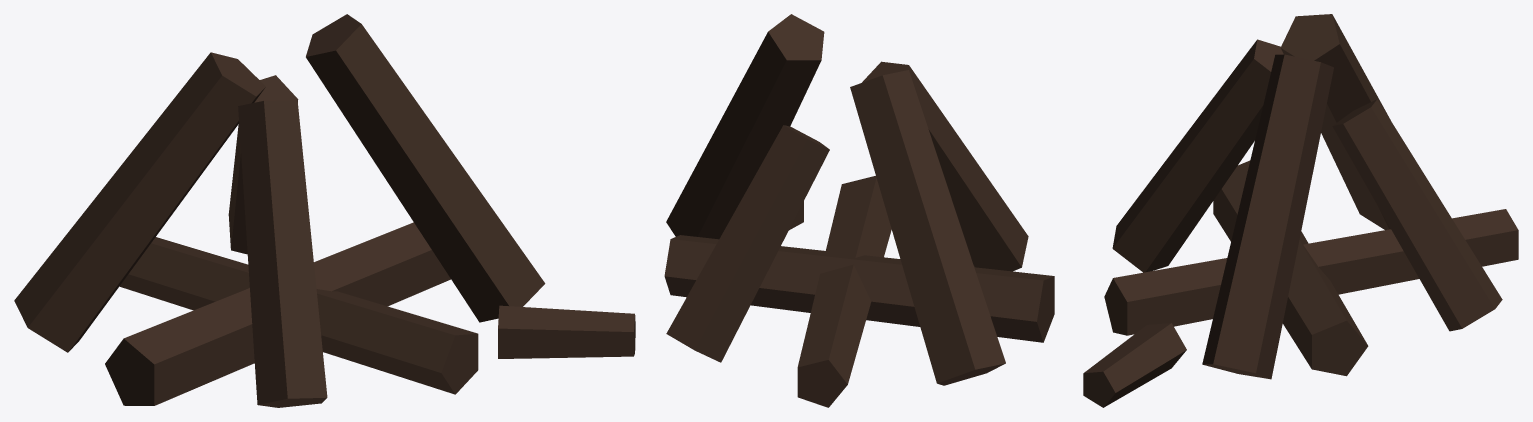
Rendered from fire_logs.fbx.
3 views of the same model, side by side, from view 1: azimuth 30°, elevation 25°; view 2: azimuth 150°, elevation 25°; view 3: azimuth 270°, elevation 25° (orthographic). The views are drawn at different scales.
Visible parts, largest first — view 1: FireLogs; view 2: FireLogs; view 3: FireLogs.
Boxes of the visible parts, x1,y1,x2,y2 form: FireLogs: (14,14,635,407); FireLogs: (664,14,1054,407); FireLogs: (1083,14,1518,407).
Size of the model in its own units: 1.03 by 0.6489 by 0.9089.
